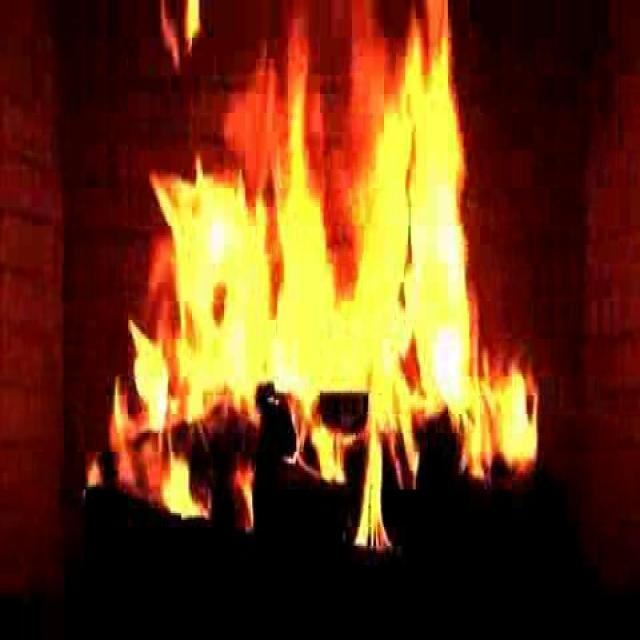Fire: (110, 18, 514, 484)
